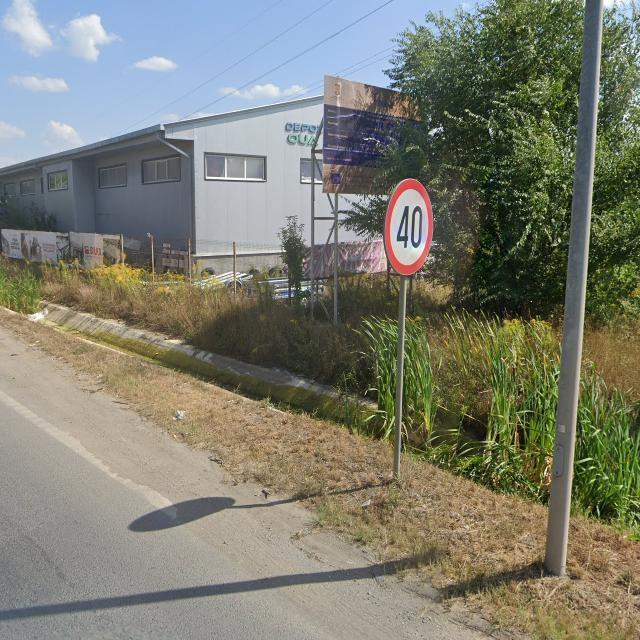forb_speed_over_40: (384, 179, 434, 274)
